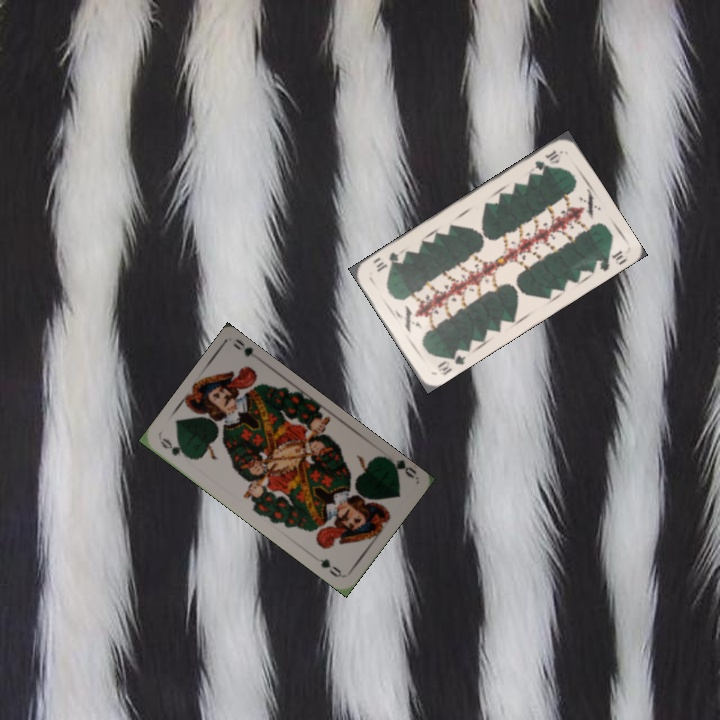G10: (433, 345, 468, 378), (530, 146, 561, 173)
GO: (156, 434, 194, 462), (381, 453, 418, 481)
